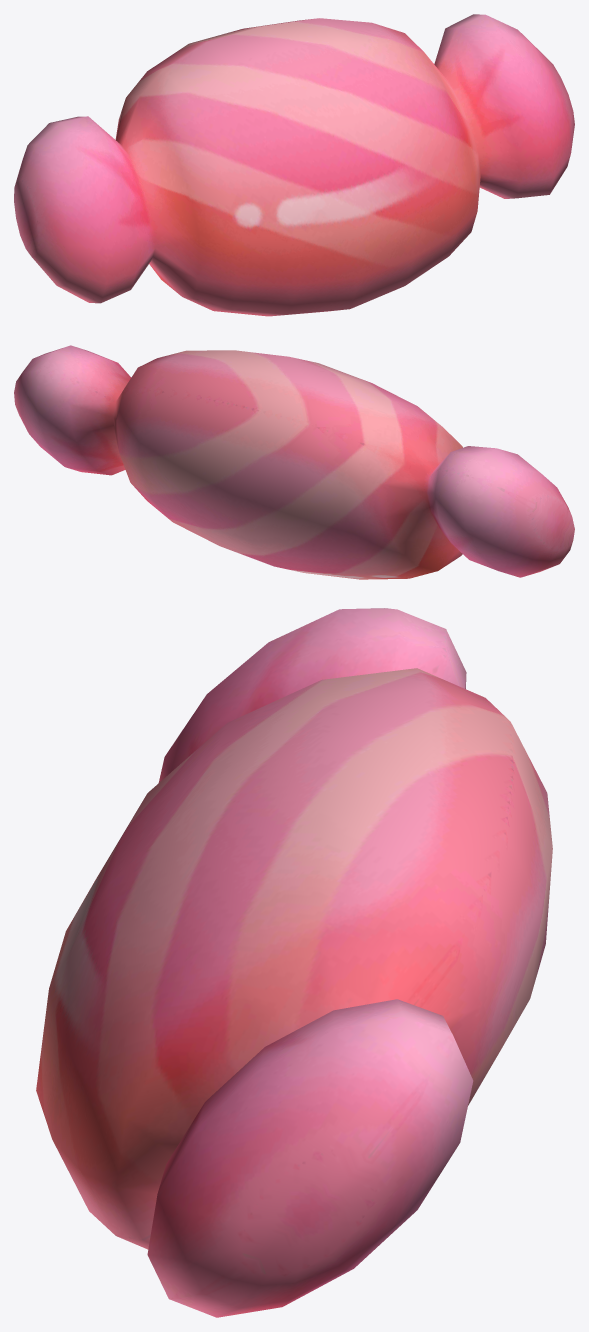
File: candies5.fbx
The picture shows the model from 3 angles, top to bottom: view 1: azimuth 30°, elevation 25°; view 2: azimuth 150°, elevation 25°; view 3: azimuth 270°, elevation 25°; orthographic projection. The views are drawn at different scales.
Parts seen in each view (by area): view 1: candies5; view 2: candies5; view 3: candies5.
Boxes of the visible parts, x1,y1,x2,y2 form: candies5: (14,14,574,316); candies5: (14,345,574,579); candies5: (36,608,552,1317).
Size of the model in its own units: 265 by 111 by 111.
Materials: 1 (1 with a texture image).
